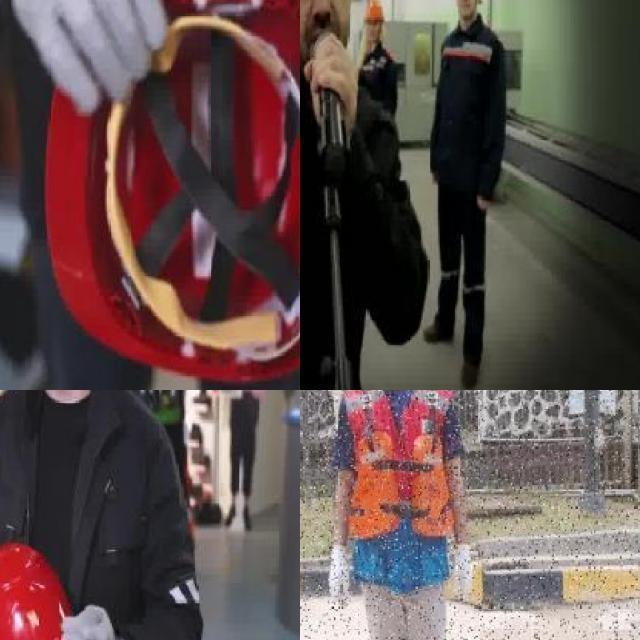apron: (0, 0, 177, 117), (53, 602, 120, 640), (324, 542, 352, 611), (451, 544, 474, 606)
